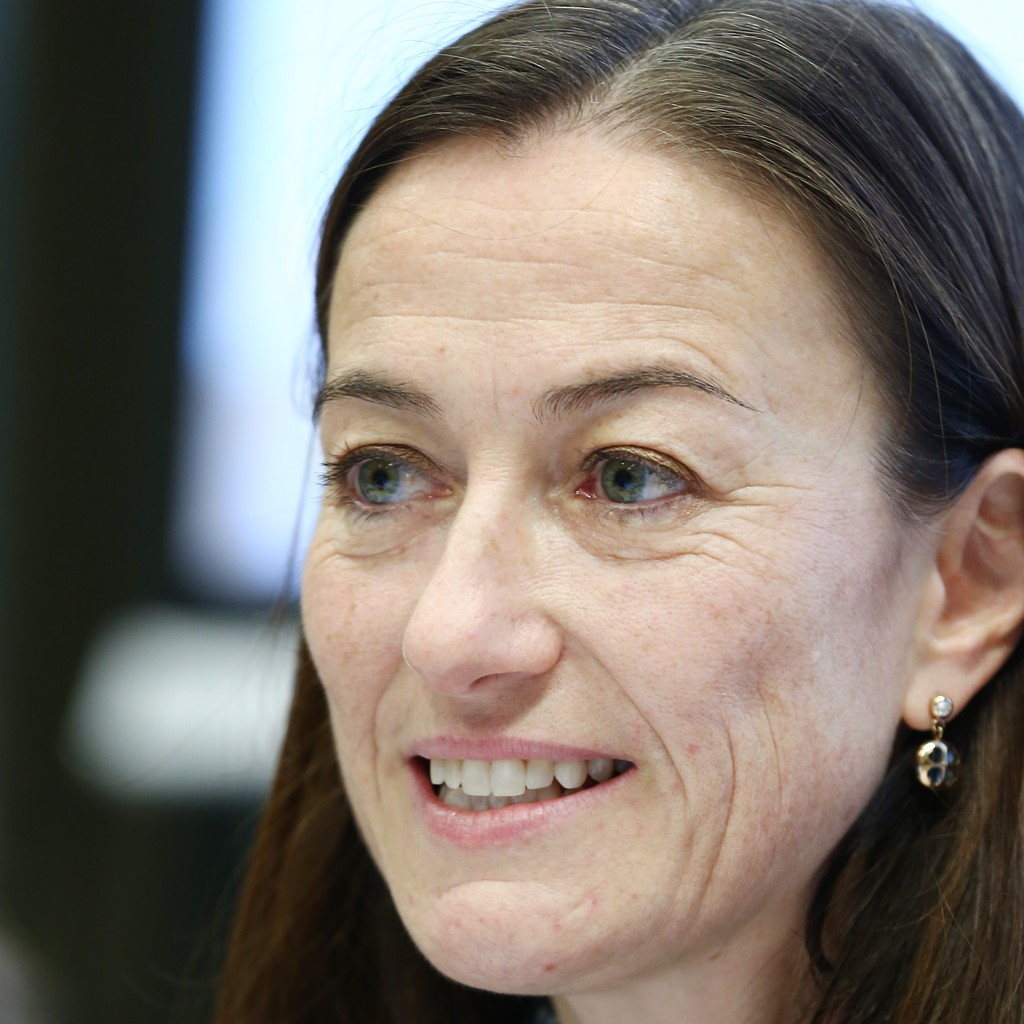sin_mascara: (300, 116, 920, 1001)
